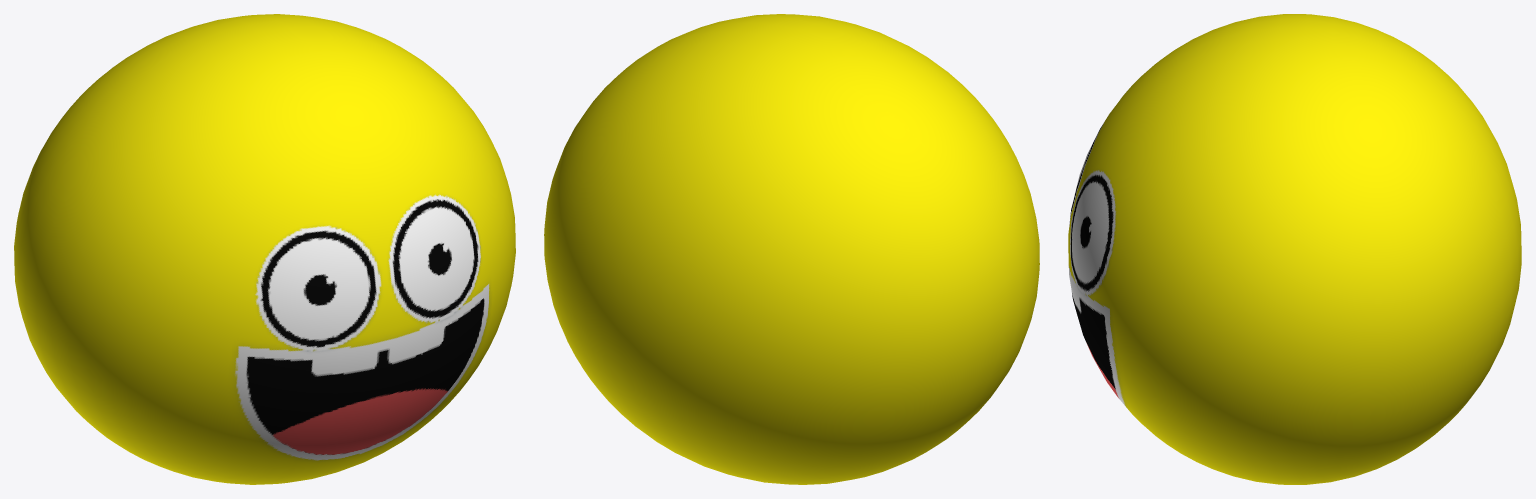
Rendered from emoji.glb.
3 renders of one model, left to right at view 1: azimuth 30°, elevation 25°; view 2: azimuth 150°, elevation 25°; view 3: azimuth 270°, elevation 25°, orthographic.
Parts seen in each view (by area): view 1: mesh_id27; view 2: mesh_id27; view 3: mesh_id27.
Part boxes in pixels (x1=…): mesh_id27: x1=14, y1=14, x2=515, y2=484; mesh_id27: x1=544, y1=14, x2=1039, y2=484; mesh_id27: x1=1068, y1=14, x2=1521, y2=484.
Bounding box in the file's own units: 0.2529 × 0.2327 × 0.2276.
Materials: 1 (1 with a texture image).
